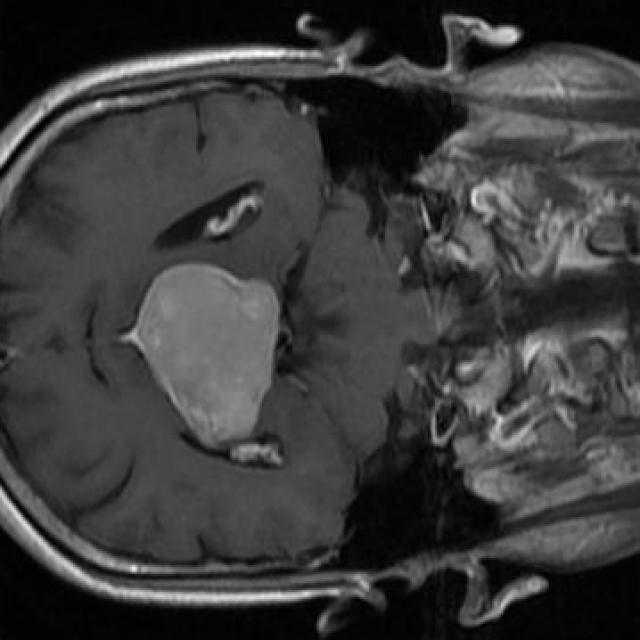meningioma: (128, 262, 282, 449)
